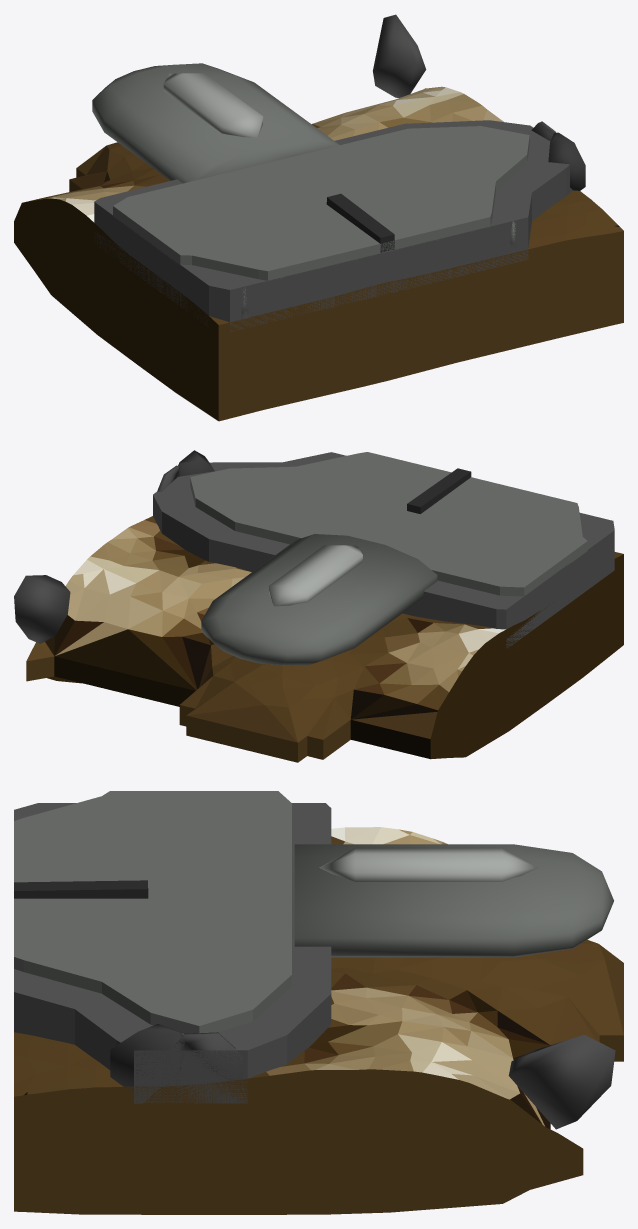
File: newsh-caret-79.glb
3 views of the same model, one above another, from view 1: azimuth 30°, elevation 25°; view 2: azimuth 150°, elevation 25°; view 3: azimuth 270°, elevation 25° (orthographic). The views are drawn at different scales.
Visible parts, largest first — view 1: newsh-caret-79; view 2: newsh-caret-79; view 3: newsh-caret-79.
Boxes of the visible parts, <box> form: newsh-caret-79: <box>14,14,623,421</box>; newsh-caret-79: <box>14,450,623,762</box>; newsh-caret-79: <box>14,791,623,1214</box>.
Size of the model in its own units: 2 by 0.7967 by 2.08.
